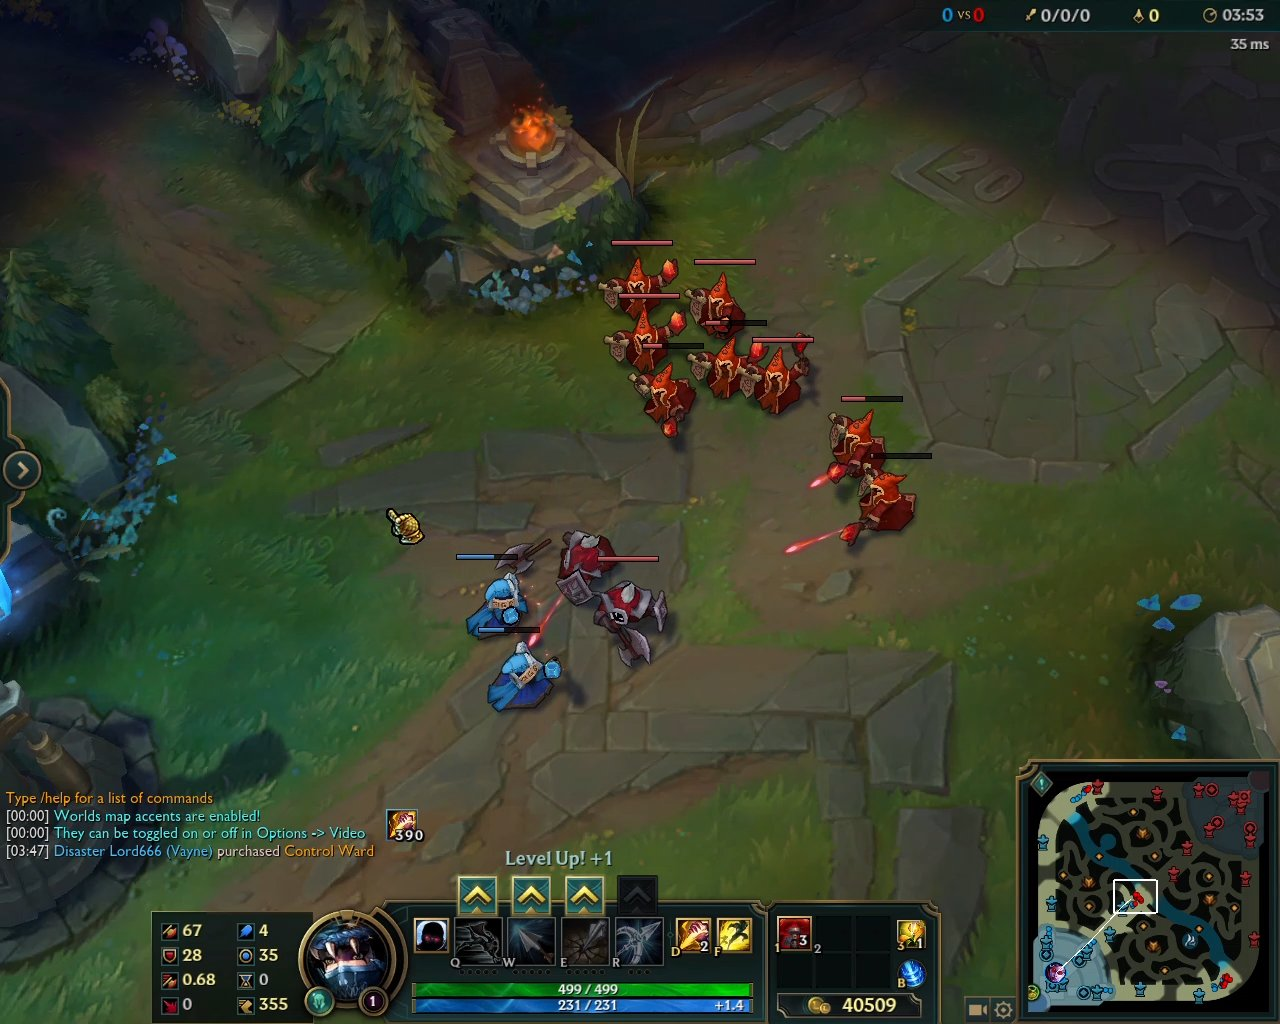EnemyMinion: (584, 555, 669, 671), (834, 453, 931, 550), (625, 343, 702, 444), (600, 290, 688, 376), (598, 238, 680, 323), (684, 319, 766, 403), (825, 395, 903, 484), (738, 333, 814, 422), (684, 258, 757, 342)
